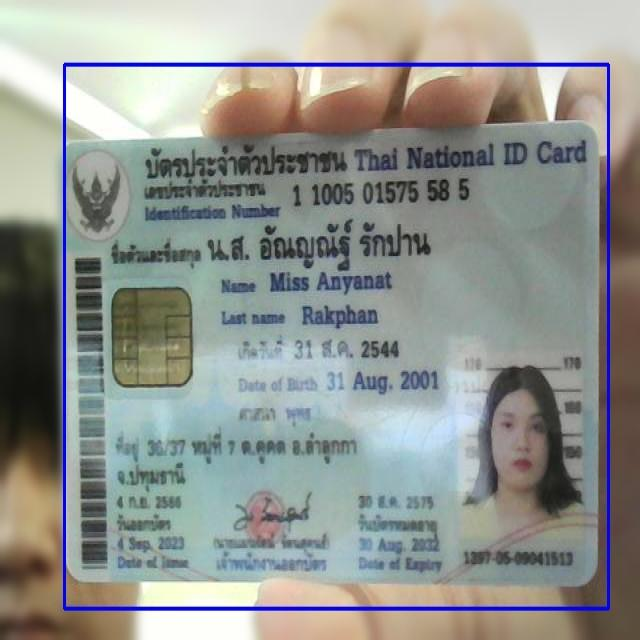Address_th: (113, 425, 360, 495)
Date_of_Birth: (323, 363, 444, 399)
Date_of_Expiry: (355, 535, 443, 556)
Date_of_Issue: (114, 531, 189, 553)
First_Name: (266, 267, 394, 299)
ID_Number: (287, 173, 479, 209)
Image: (461, 353, 581, 543)
Last_Name: (298, 301, 380, 332)
Thai_Name: (204, 220, 446, 274)
